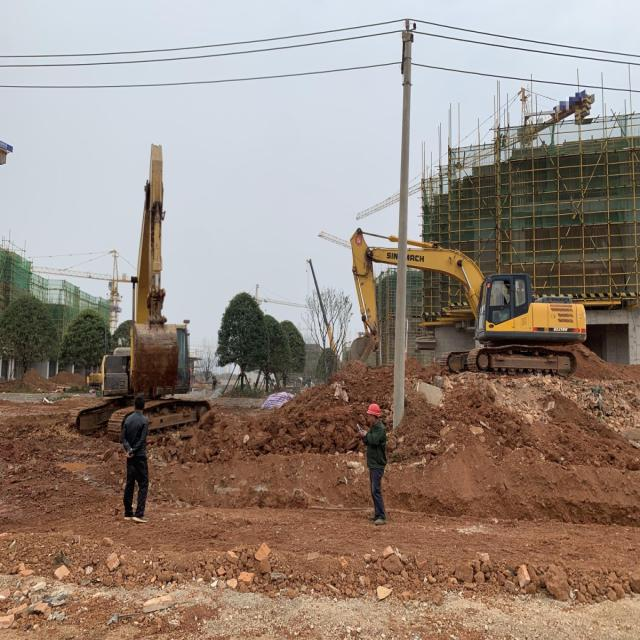crane: (356, 86, 595, 219), (33, 250, 131, 335), (306, 256, 336, 353), (255, 283, 308, 307), (318, 231, 351, 249)
excavator: (68, 142, 212, 437), (349, 227, 586, 376)
